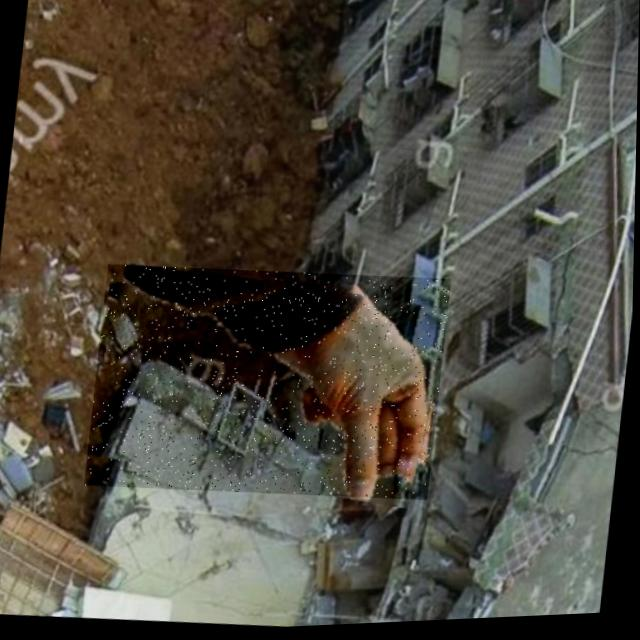Person in Rubble: (84, 253, 452, 516)
